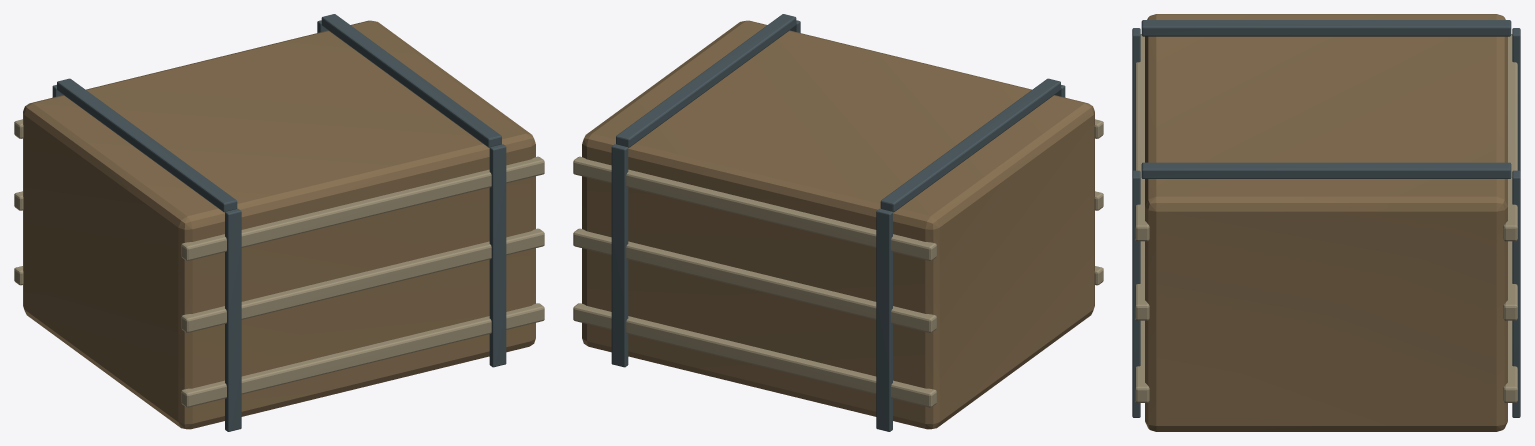
The model's file is float-supply-crate.glb.
3 views of the same model, side by side, from view 1: azimuth 30°, elevation 25°; view 2: azimuth 150°, elevation 25°; view 3: azimuth 270°, elevation 25° (orthographic). The views are drawn at different scales.
Visible parts, largest first — view 1: float-supply-crate; view 2: float-supply-crate; view 3: float-supply-crate.
Boxes of the visible parts, left/top/right/bottom form: float-supply-crate: left=14, top=14, right=544, bottom=431; float-supply-crate: left=573, top=14, right=1103, bottom=431; float-supply-crate: left=1132, top=14, right=1520, bottom=431.
Bounding box in the file's own units: 1.41 × 0.8475 × 1.2.
